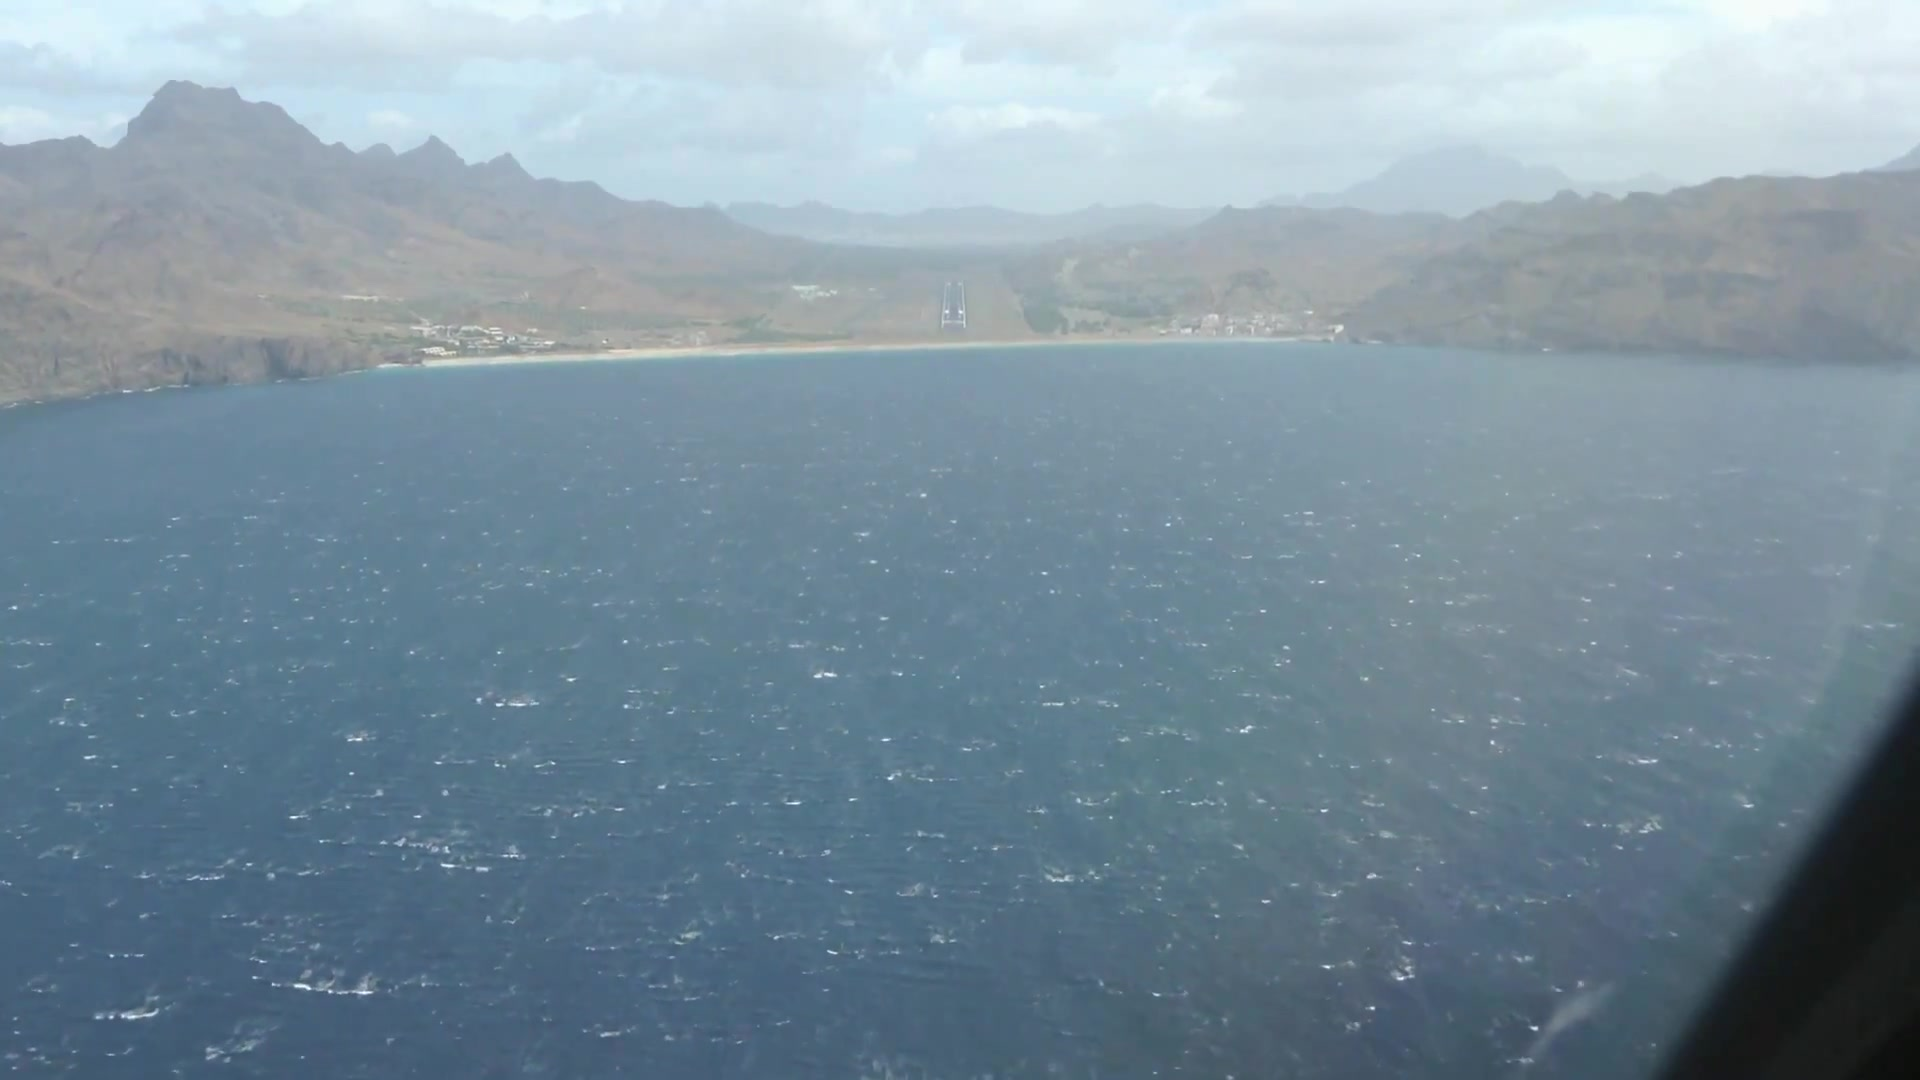runway: (938, 280, 969, 330)
